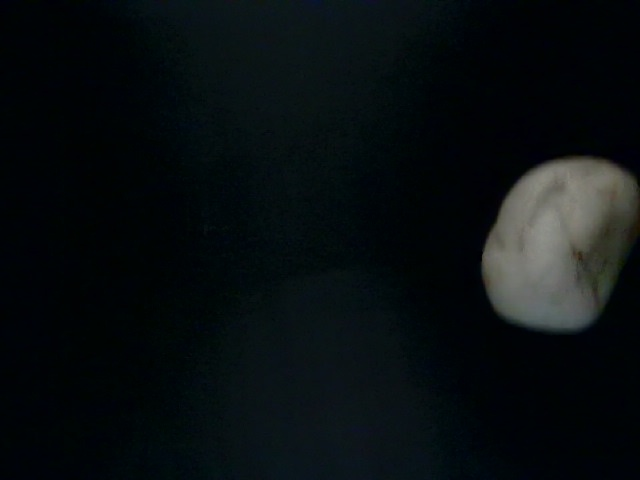QTLJ: (393, 5, 585, 140)
